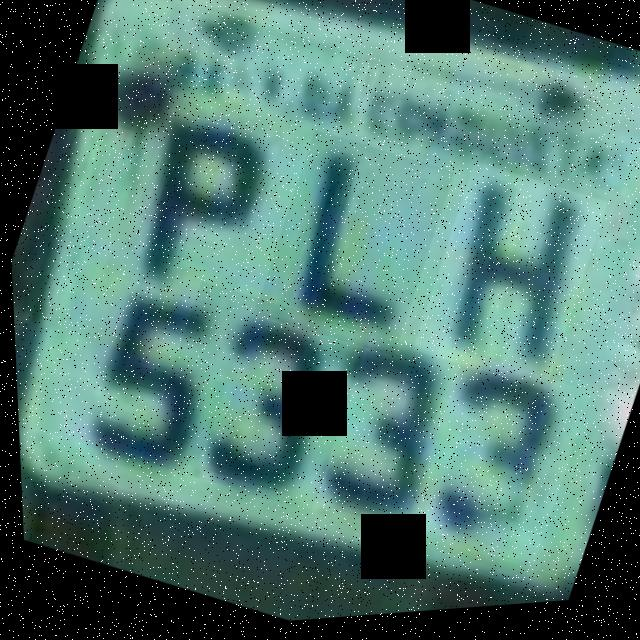3: (131, 274, 374, 527), (249, 308, 486, 559), (371, 343, 593, 581)
5: (29, 251, 255, 490)
H: (403, 162, 612, 406)
J: (245, 127, 459, 371)
P: (94, 72, 299, 322)
